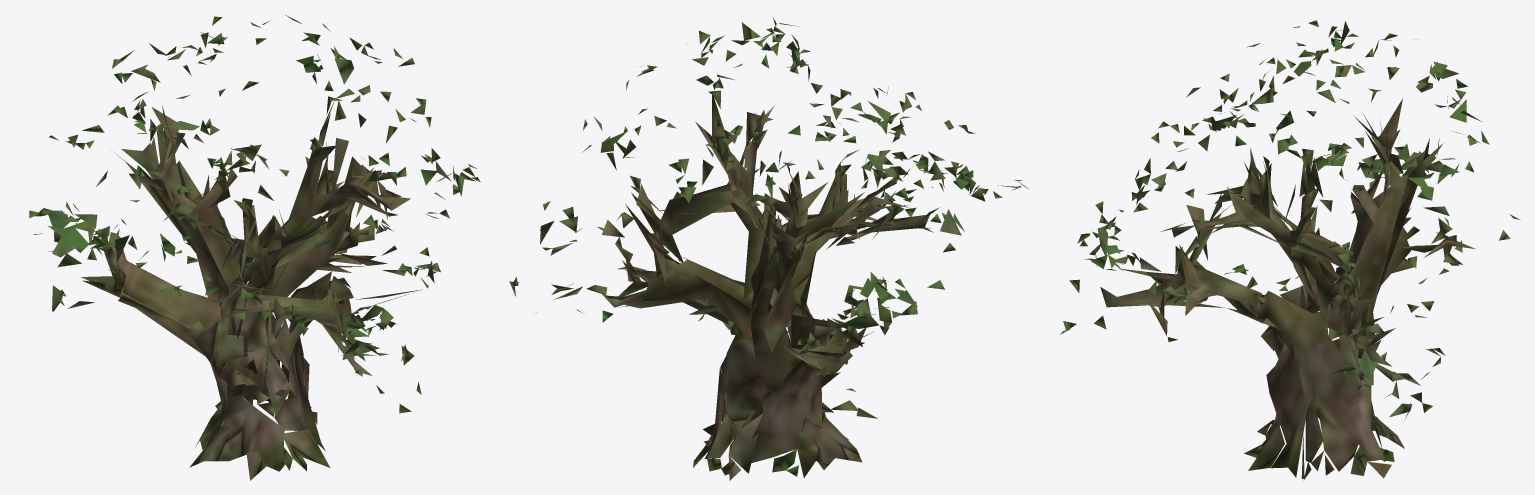
File: wald_eiche_lo.glb
The picture shows the model from 3 angles, left to right: view 1: azimuth 30°, elevation 25°; view 2: azimuth 150°, elevation 25°; view 3: azimuth 270°, elevation 25°; orthographic projection. The views are drawn at different scales.
Parts seen in each view (by area): view 1: Prop; view 2: Prop; view 3: Prop.
Boxes of the visible parts, x1,y1,x2,y2 form: Prop: (29, 15, 480, 480); Prop: (509, 18, 1029, 480); Prop: (1060, 20, 1520, 480).
Bounding box in the file's own units: 1 × 1.01 × 0.9931.
1 material, 1 textured.
